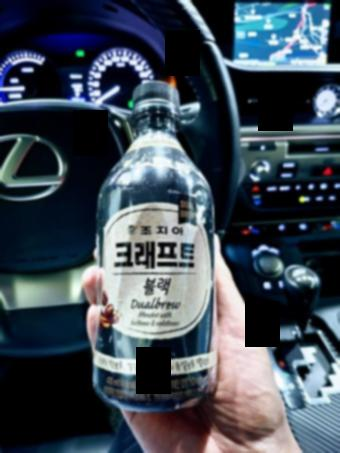georgiacraft_black: (73, 76, 230, 413)
